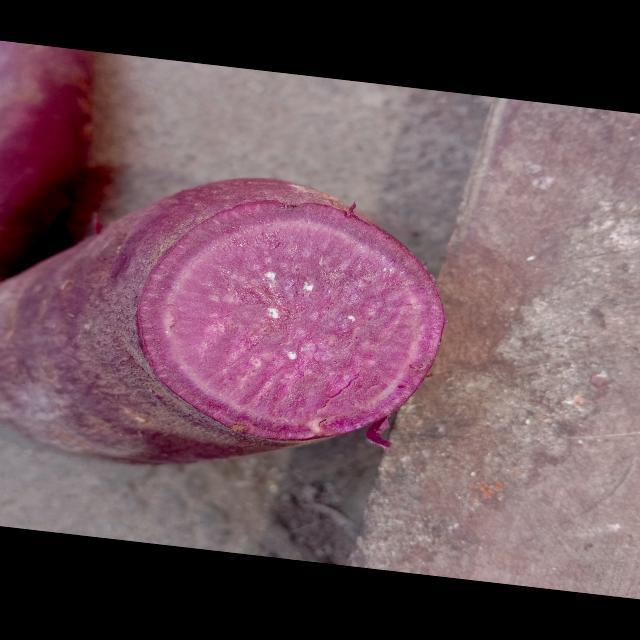Healthy Sweet Potato: (138, 202, 445, 440)
